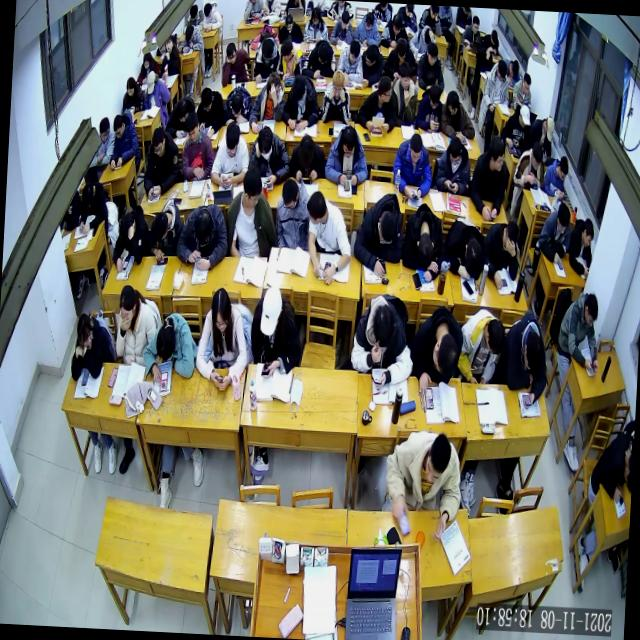bow: (408, 302, 466, 397), (501, 308, 552, 410), (352, 190, 406, 278), (142, 309, 199, 386), (174, 200, 230, 274), (400, 198, 446, 284), (114, 282, 158, 368), (68, 311, 115, 384), (442, 215, 488, 283), (246, 122, 293, 188), (356, 72, 398, 134), (144, 196, 184, 260), (438, 88, 478, 141), (287, 132, 327, 185), (566, 216, 596, 278), (301, 37, 338, 81), (165, 91, 198, 140), (335, 36, 365, 86), (222, 83, 253, 128), (358, 42, 386, 88), (248, 22, 280, 52), (409, 24, 436, 57), (177, 21, 204, 52), (201, 0, 224, 32), (183, 3, 205, 36), (474, 44, 494, 76), (483, 26, 501, 56), (504, 56, 522, 84)
down: (430, 332, 460, 382), (258, 284, 284, 338), (370, 304, 397, 352), (210, 286, 233, 334), (522, 331, 546, 376), (155, 320, 178, 365), (376, 209, 398, 249), (192, 208, 214, 248), (484, 318, 506, 358), (224, 120, 242, 160), (280, 177, 300, 213), (340, 124, 359, 160), (256, 125, 274, 162), (298, 134, 316, 170), (151, 210, 170, 244), (502, 220, 520, 255), (118, 210, 136, 243), (150, 126, 167, 160), (584, 292, 600, 328), (292, 74, 308, 108), (408, 132, 423, 168), (447, 136, 463, 168), (185, 110, 200, 144), (331, 68, 346, 101), (530, 141, 545, 174), (80, 182, 96, 212), (555, 202, 570, 234), (581, 217, 595, 250), (200, 86, 215, 115), (112, 113, 126, 142), (230, 89, 244, 118), (98, 114, 112, 142), (347, 40, 362, 66), (428, 84, 443, 110), (176, 96, 191, 122), (426, 42, 440, 69), (518, 105, 532, 132), (317, 40, 331, 66), (557, 154, 570, 182), (544, 114, 556, 142), (144, 70, 156, 96), (225, 42, 238, 66), (395, 36, 408, 60), (391, 11, 403, 35), (496, 58, 508, 82), (182, 24, 195, 46), (508, 58, 521, 79), (521, 72, 532, 96), (421, 26, 434, 46), (338, 10, 349, 32), (364, 10, 375, 32), (125, 76, 137, 96), (311, 6, 322, 26), (470, 14, 480, 36), (142, 50, 152, 70), (284, 12, 294, 32), (490, 27, 498, 46)
lookup: (422, 432, 452, 486), (118, 284, 136, 327), (165, 34, 175, 54)
sit: (382, 428, 464, 544), (349, 293, 417, 390), (194, 284, 252, 394), (248, 281, 304, 379), (302, 188, 355, 286), (225, 164, 279, 260), (556, 288, 604, 374), (456, 306, 506, 388), (466, 134, 509, 225), (587, 432, 634, 506), (390, 130, 434, 203), (142, 124, 182, 202), (324, 122, 371, 188), (208, 120, 252, 190), (274, 175, 314, 252), (112, 203, 152, 276), (180, 110, 218, 186), (482, 216, 521, 290), (280, 72, 322, 134), (537, 198, 574, 268), (434, 135, 474, 198), (248, 71, 286, 136), (389, 60, 420, 128), (108, 109, 140, 170), (78, 178, 109, 238), (320, 69, 352, 127), (512, 140, 547, 192), (416, 38, 448, 92), (252, 34, 285, 86), (482, 56, 512, 112), (193, 85, 224, 138), (414, 82, 444, 134), (220, 40, 252, 88), (501, 102, 532, 149), (384, 35, 416, 77), (275, 38, 305, 82), (144, 68, 172, 113), (93, 114, 117, 166), (543, 153, 570, 199), (352, 10, 382, 50), (530, 112, 556, 158), (303, 6, 330, 46), (379, 12, 406, 50), (160, 32, 182, 78), (121, 76, 146, 116), (330, 10, 356, 48), (511, 72, 534, 114), (278, 11, 304, 47), (460, 14, 482, 53), (138, 48, 156, 84)
